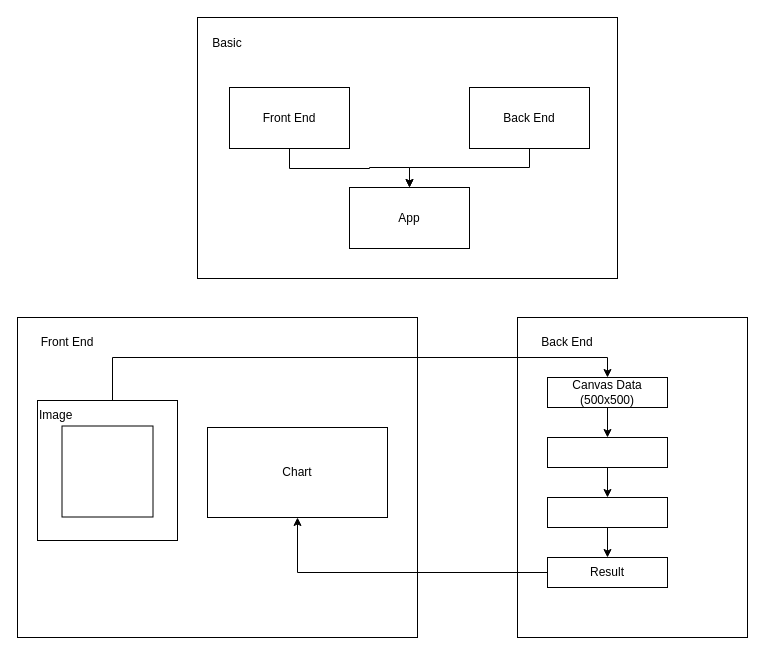
The diagram is 765 pixels wide and 655 high, and some of its shapes have lost their labels. Each missing label, with the centre of its shape:
"Canvas" goes at point 107,471.
"CNN" goes at point 607,512.
"Resize Data (28x28)" goes at point 607,452.
